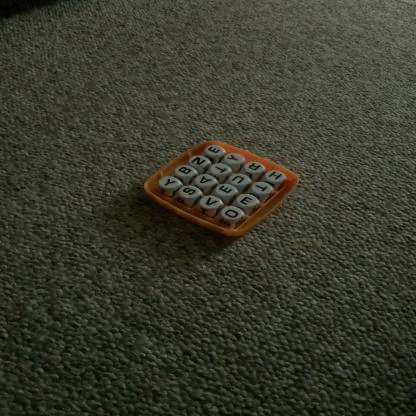a: (198, 175, 215, 186)
b: (178, 166, 194, 177)
e: (205, 145, 224, 156), (239, 195, 255, 208), (218, 184, 235, 196)
h: (268, 171, 287, 182)
n: (192, 155, 208, 168)
o: (224, 209, 242, 221)
r: (248, 162, 265, 173)
s: (182, 186, 200, 198)
t: (214, 164, 231, 176), (254, 183, 271, 194)
u: (231, 175, 249, 187)
v: (204, 197, 221, 209)
y: (161, 177, 179, 190), (226, 154, 244, 164)
